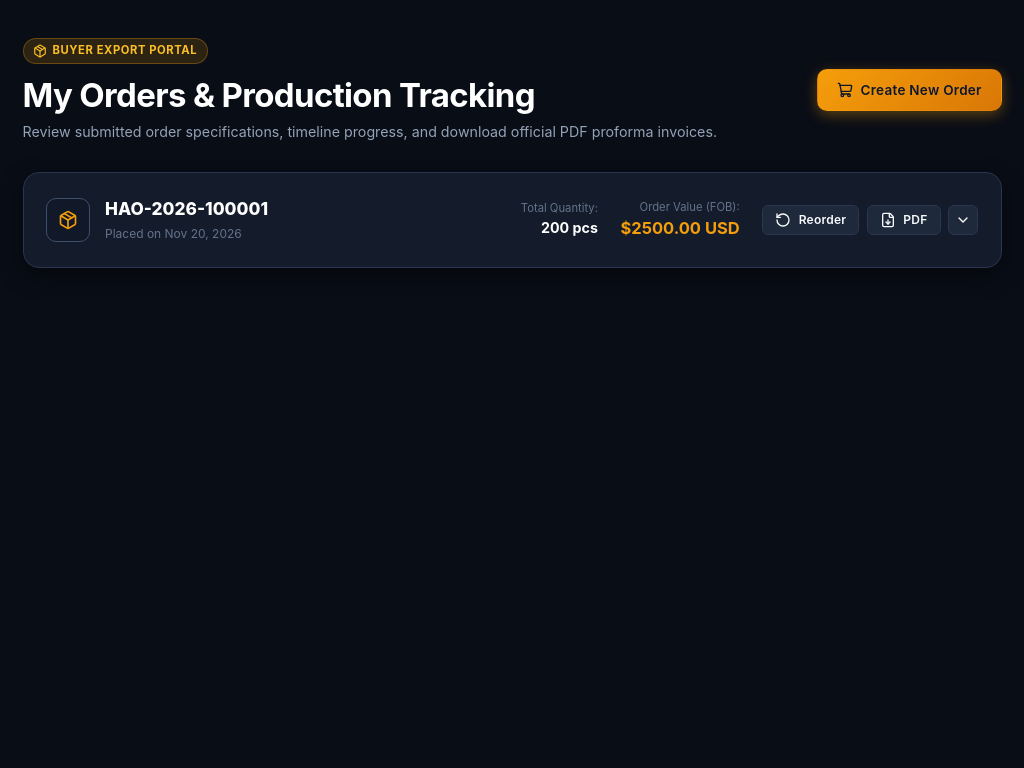
it: MyOrdersPage invoice paper preview (FE-10) › renders the fixture figures exactly in the paper preview when expanded
Click the text "HAO-2026-100001".
click(186, 209)  # box [105, 196, 268, 222]
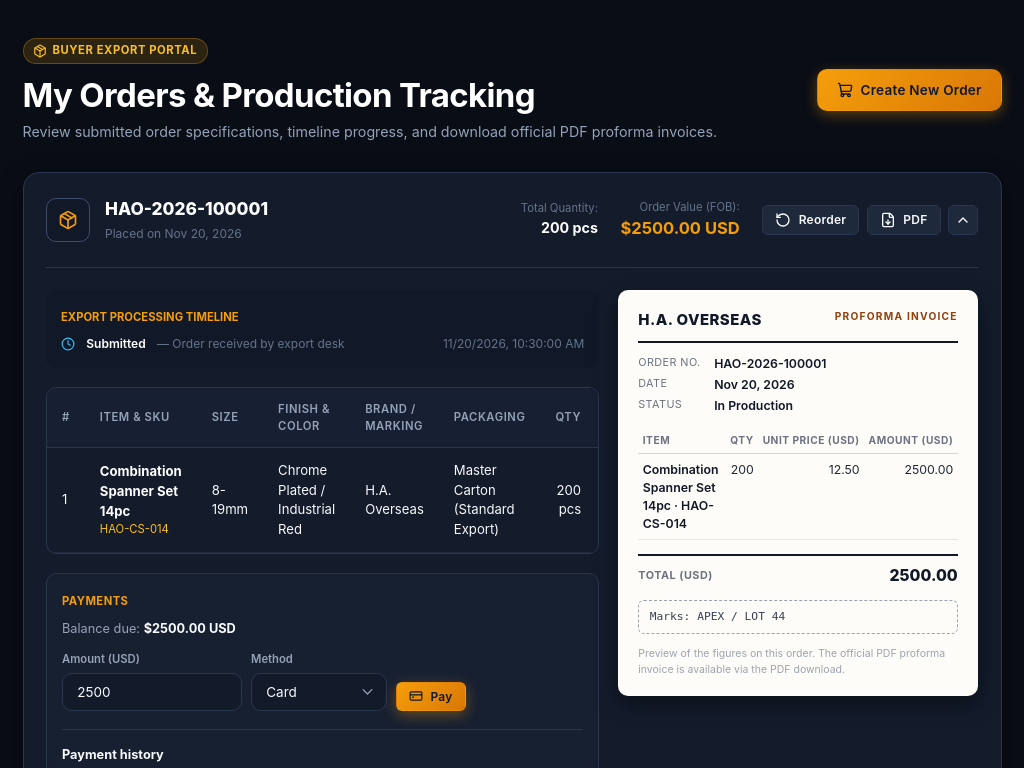
Result: the text "HAO-2026-100001" next to "Order No." is shown at [714, 356, 826, 371]
Result: the text "200" is shown at [726, 454, 758, 540]
Result: the text "12.50" is shown at [758, 454, 864, 540]
